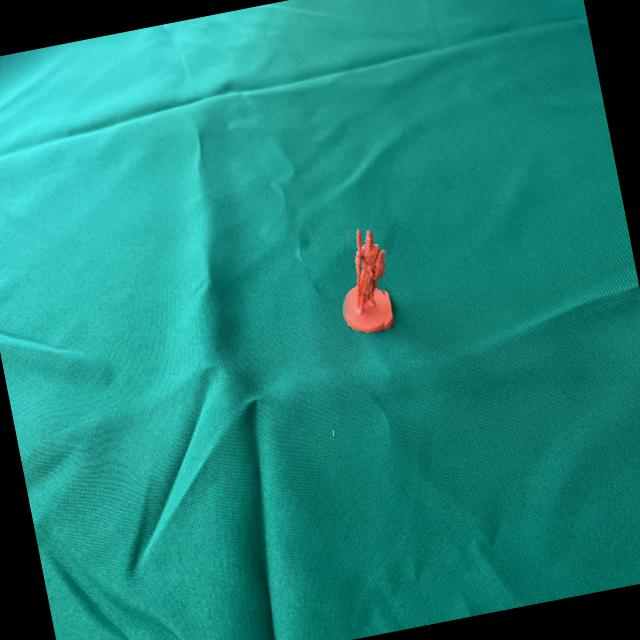amon_follower: (343, 230, 387, 332)
